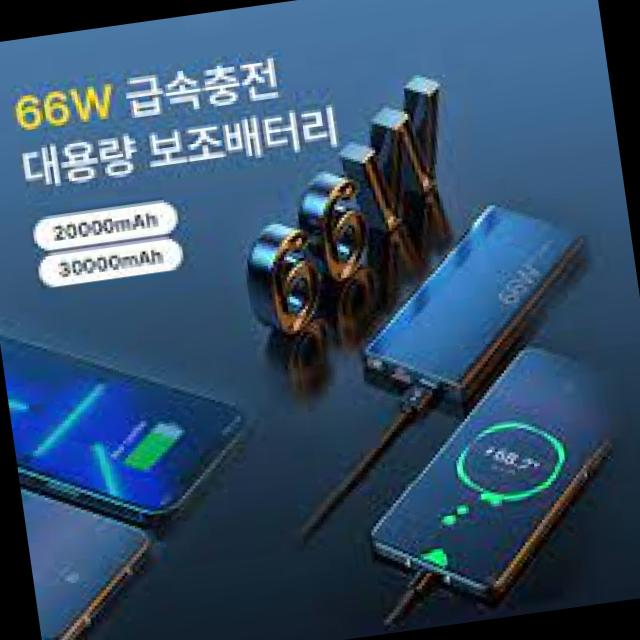portable-charger: (347, 188, 606, 418)
